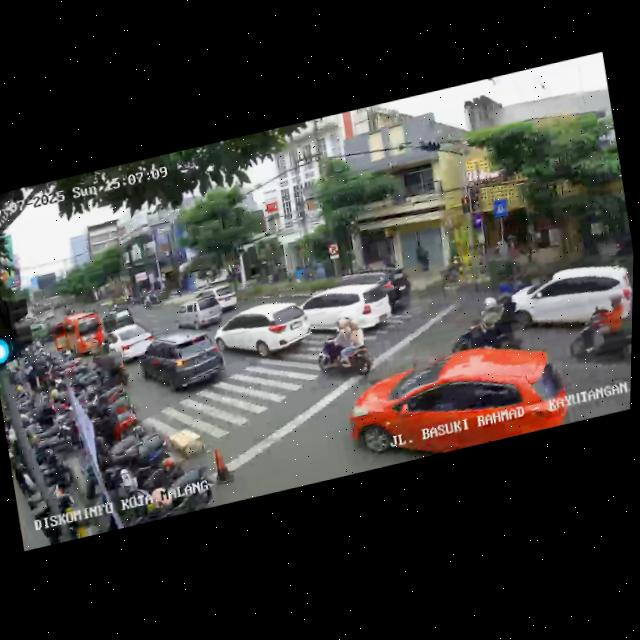car: (340, 325, 576, 474), (507, 250, 634, 343), (213, 292, 316, 370), (135, 322, 231, 403), (299, 270, 398, 346), (321, 256, 417, 332), (48, 306, 107, 364), (99, 317, 157, 368), (170, 288, 225, 335), (195, 281, 241, 318), (100, 305, 134, 333)
motorcycle: (450, 280, 534, 362), (563, 293, 633, 377), (307, 310, 376, 389)
